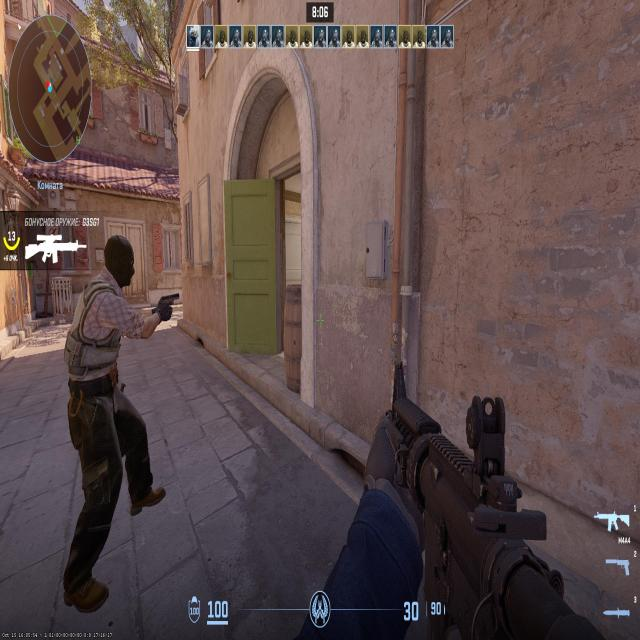T: (93, 245, 144, 555)
T_heat: (106, 250, 119, 290)
